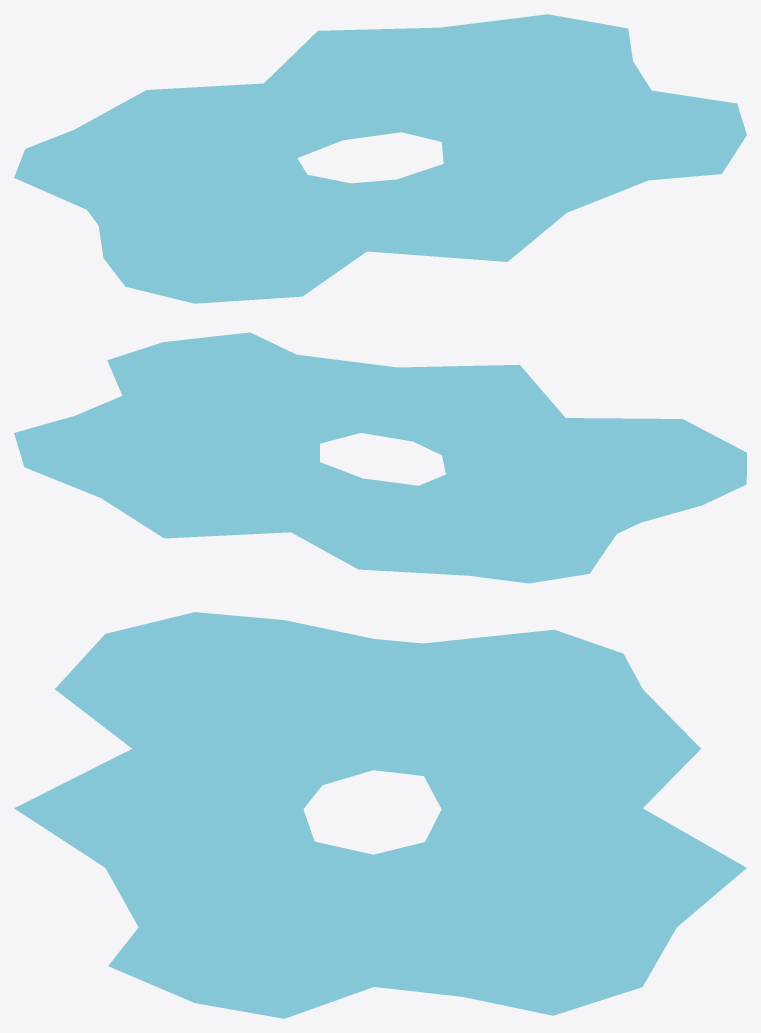
The model's file is Water.FBX.
The picture shows the model from 3 angles, top to bottom: view 1: azimuth 30°, elevation 25°; view 2: azimuth 150°, elevation 25°; view 3: azimuth 270°, elevation 25°; orthographic projection. The views are drawn at different scales.
Visible parts, largest first — view 1: water; view 2: water; view 3: water.
Boxes of the visible parts, x1,y1,x2,y2 form: water: (14,14,746,303); water: (14,332,746,583); water: (14,612,746,1018).
Size of the model in its own units: 35.96 by 5.32e-07 by 27.39.
